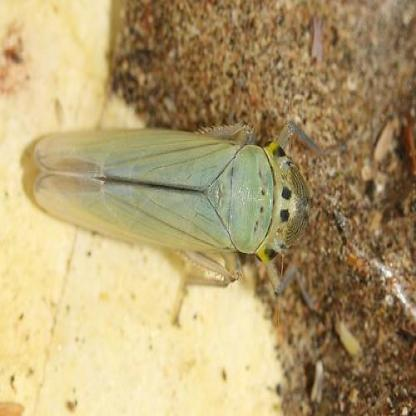Green-Leafhopper: (29, 94, 349, 338)
